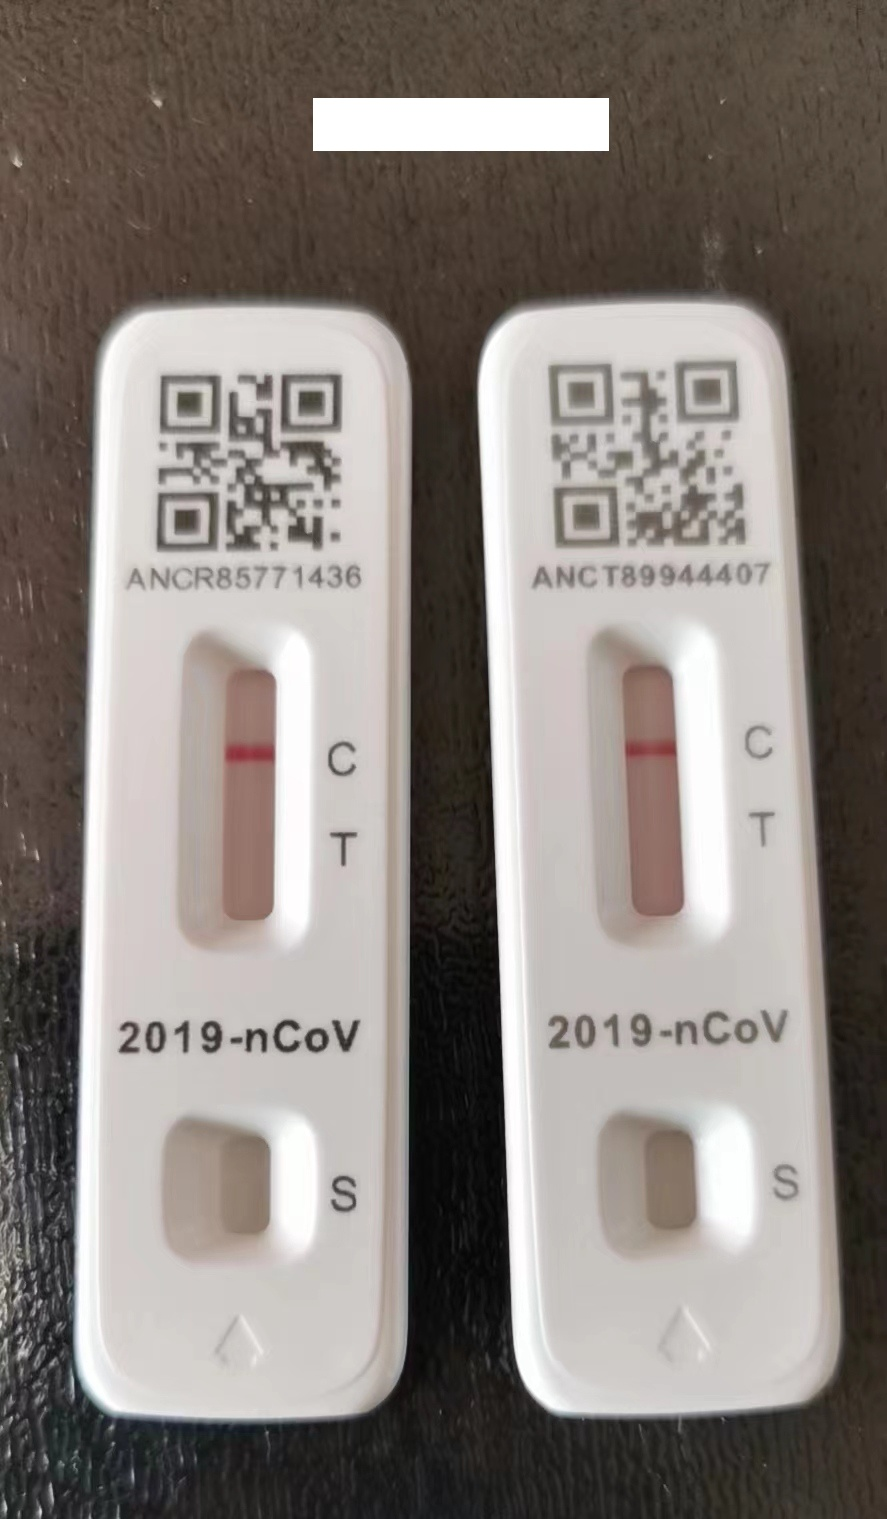negative: (180, 626, 303, 970), (592, 625, 701, 961)
